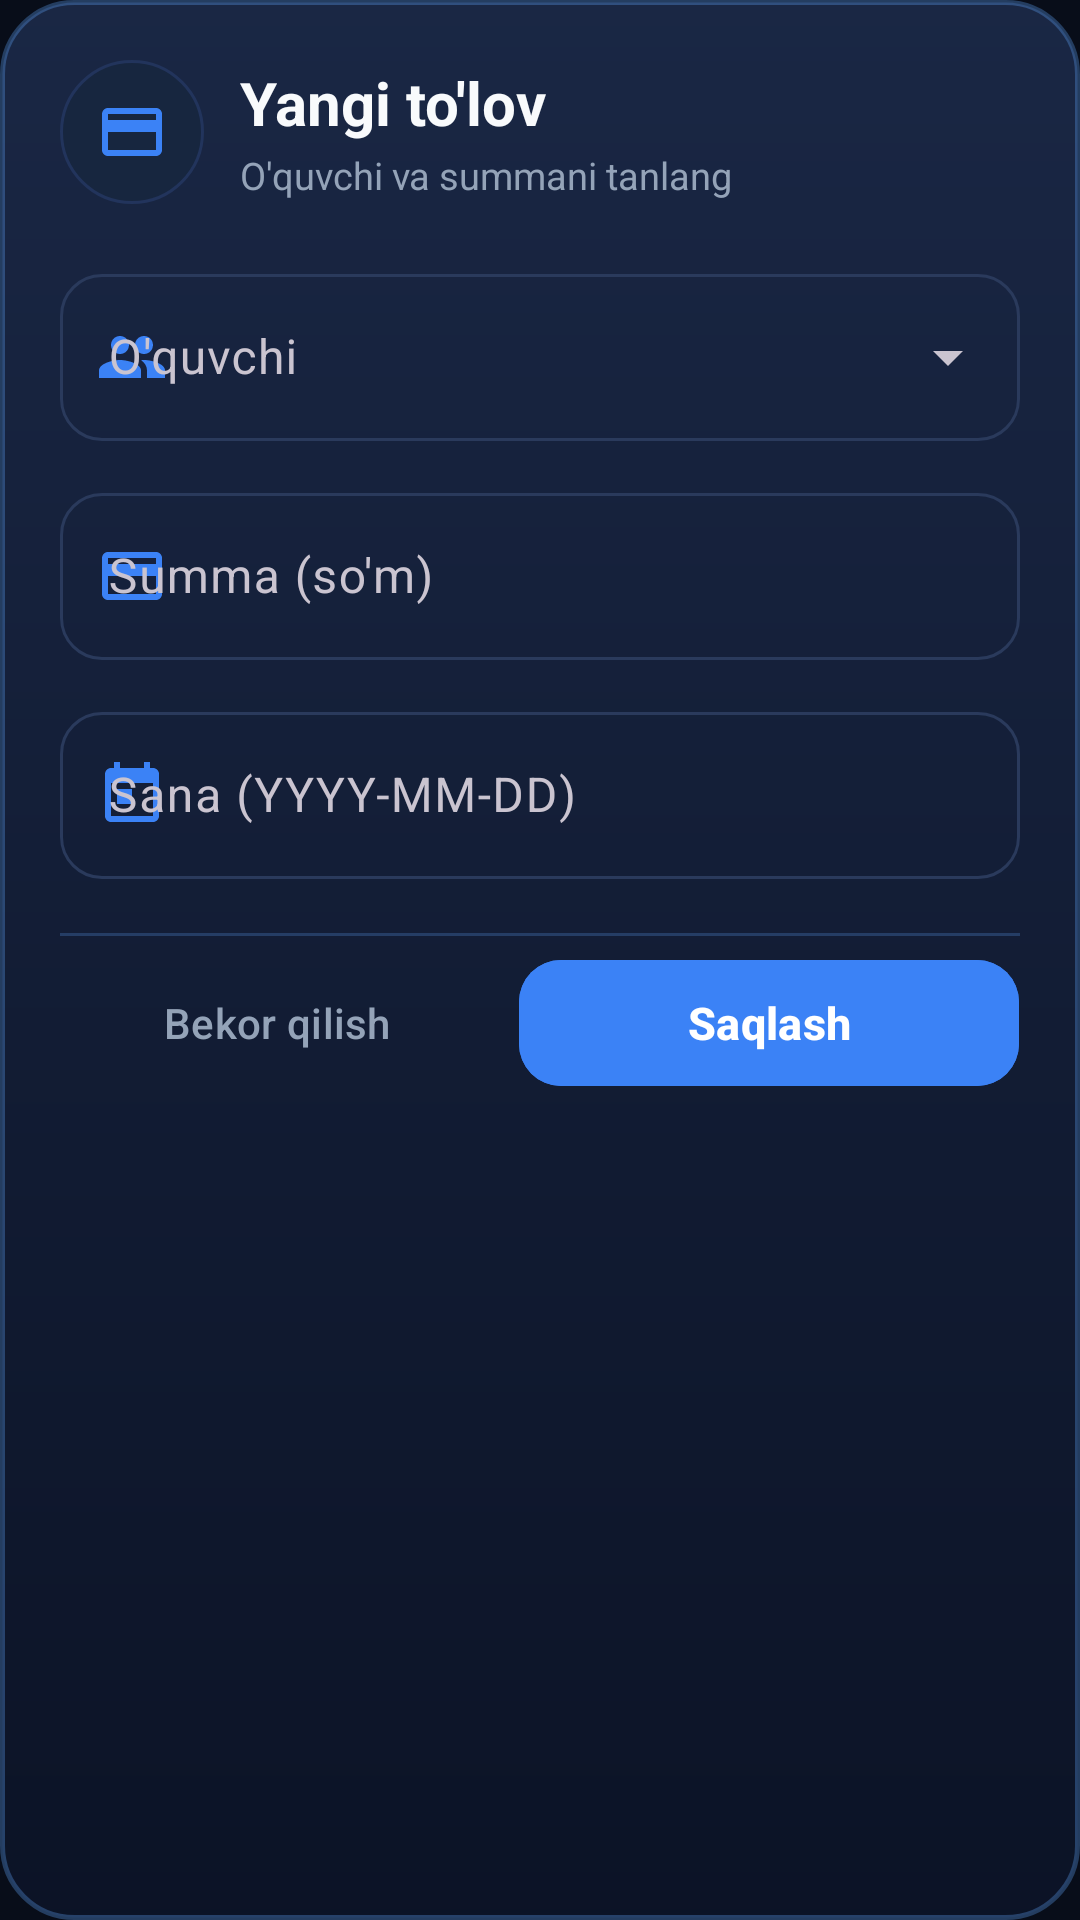

Named icons in this screenshot (1080 x 1920) and their centers, [x,y]:
card: [132,132]
